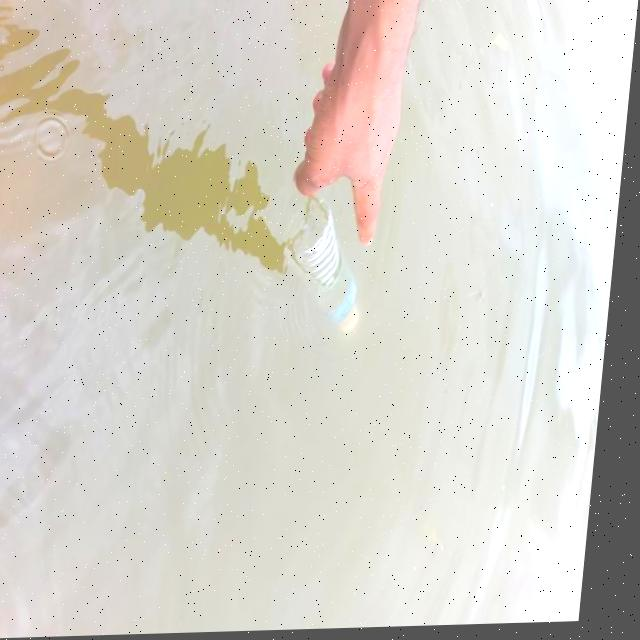waterbottle: (277, 208, 378, 349)
